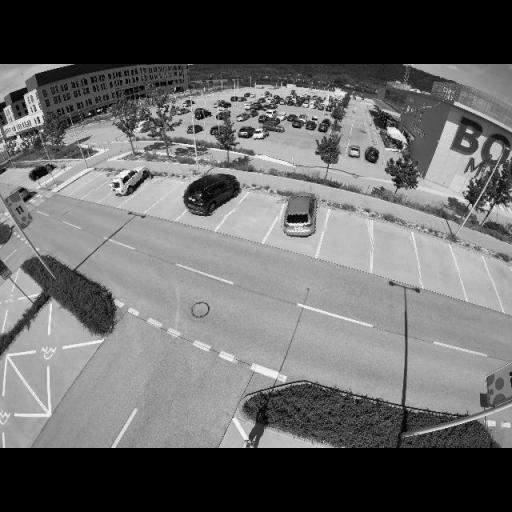busy: (182, 171, 242, 218), (276, 193, 326, 239), (108, 167, 153, 196), (26, 164, 52, 182), (364, 145, 384, 164), (259, 113, 282, 125), (346, 144, 364, 158), (192, 108, 210, 122), (232, 110, 252, 122), (264, 122, 286, 132), (250, 129, 268, 141), (237, 126, 254, 138), (304, 118, 318, 132), (318, 120, 332, 132), (217, 100, 231, 110), (292, 118, 304, 128)
free: (327, 222, 374, 258), (375, 238, 417, 274), (420, 254, 456, 287), (461, 265, 493, 295), (238, 203, 272, 224), (163, 194, 189, 214), (143, 186, 166, 200), (96, 183, 116, 198), (210, 152, 230, 163), (298, 140, 315, 150), (74, 177, 86, 188), (84, 184, 94, 194), (270, 136, 285, 142)
